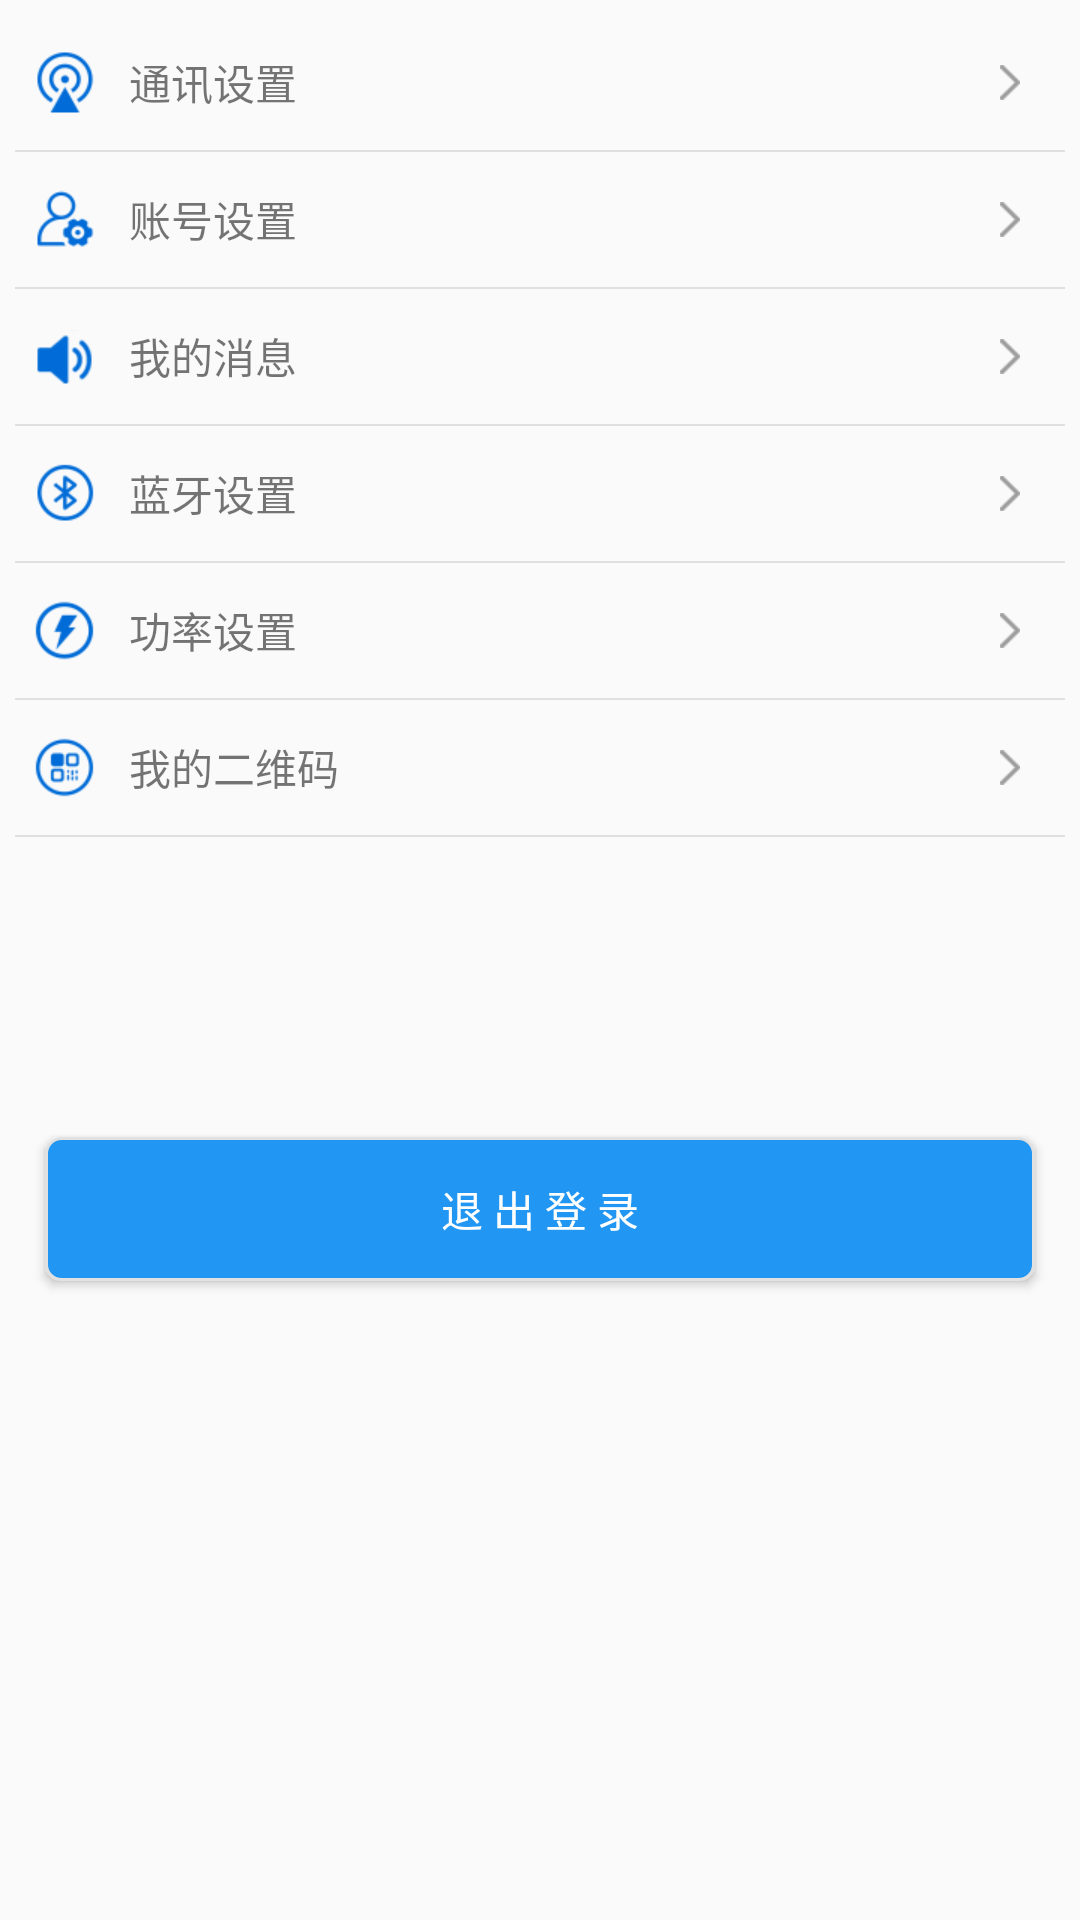

Named icons in this screenshot (1080px×1920px) and their centers, (x=x, y=y):
power: (x=64, y=630)
scan: (x=64, y=767)
